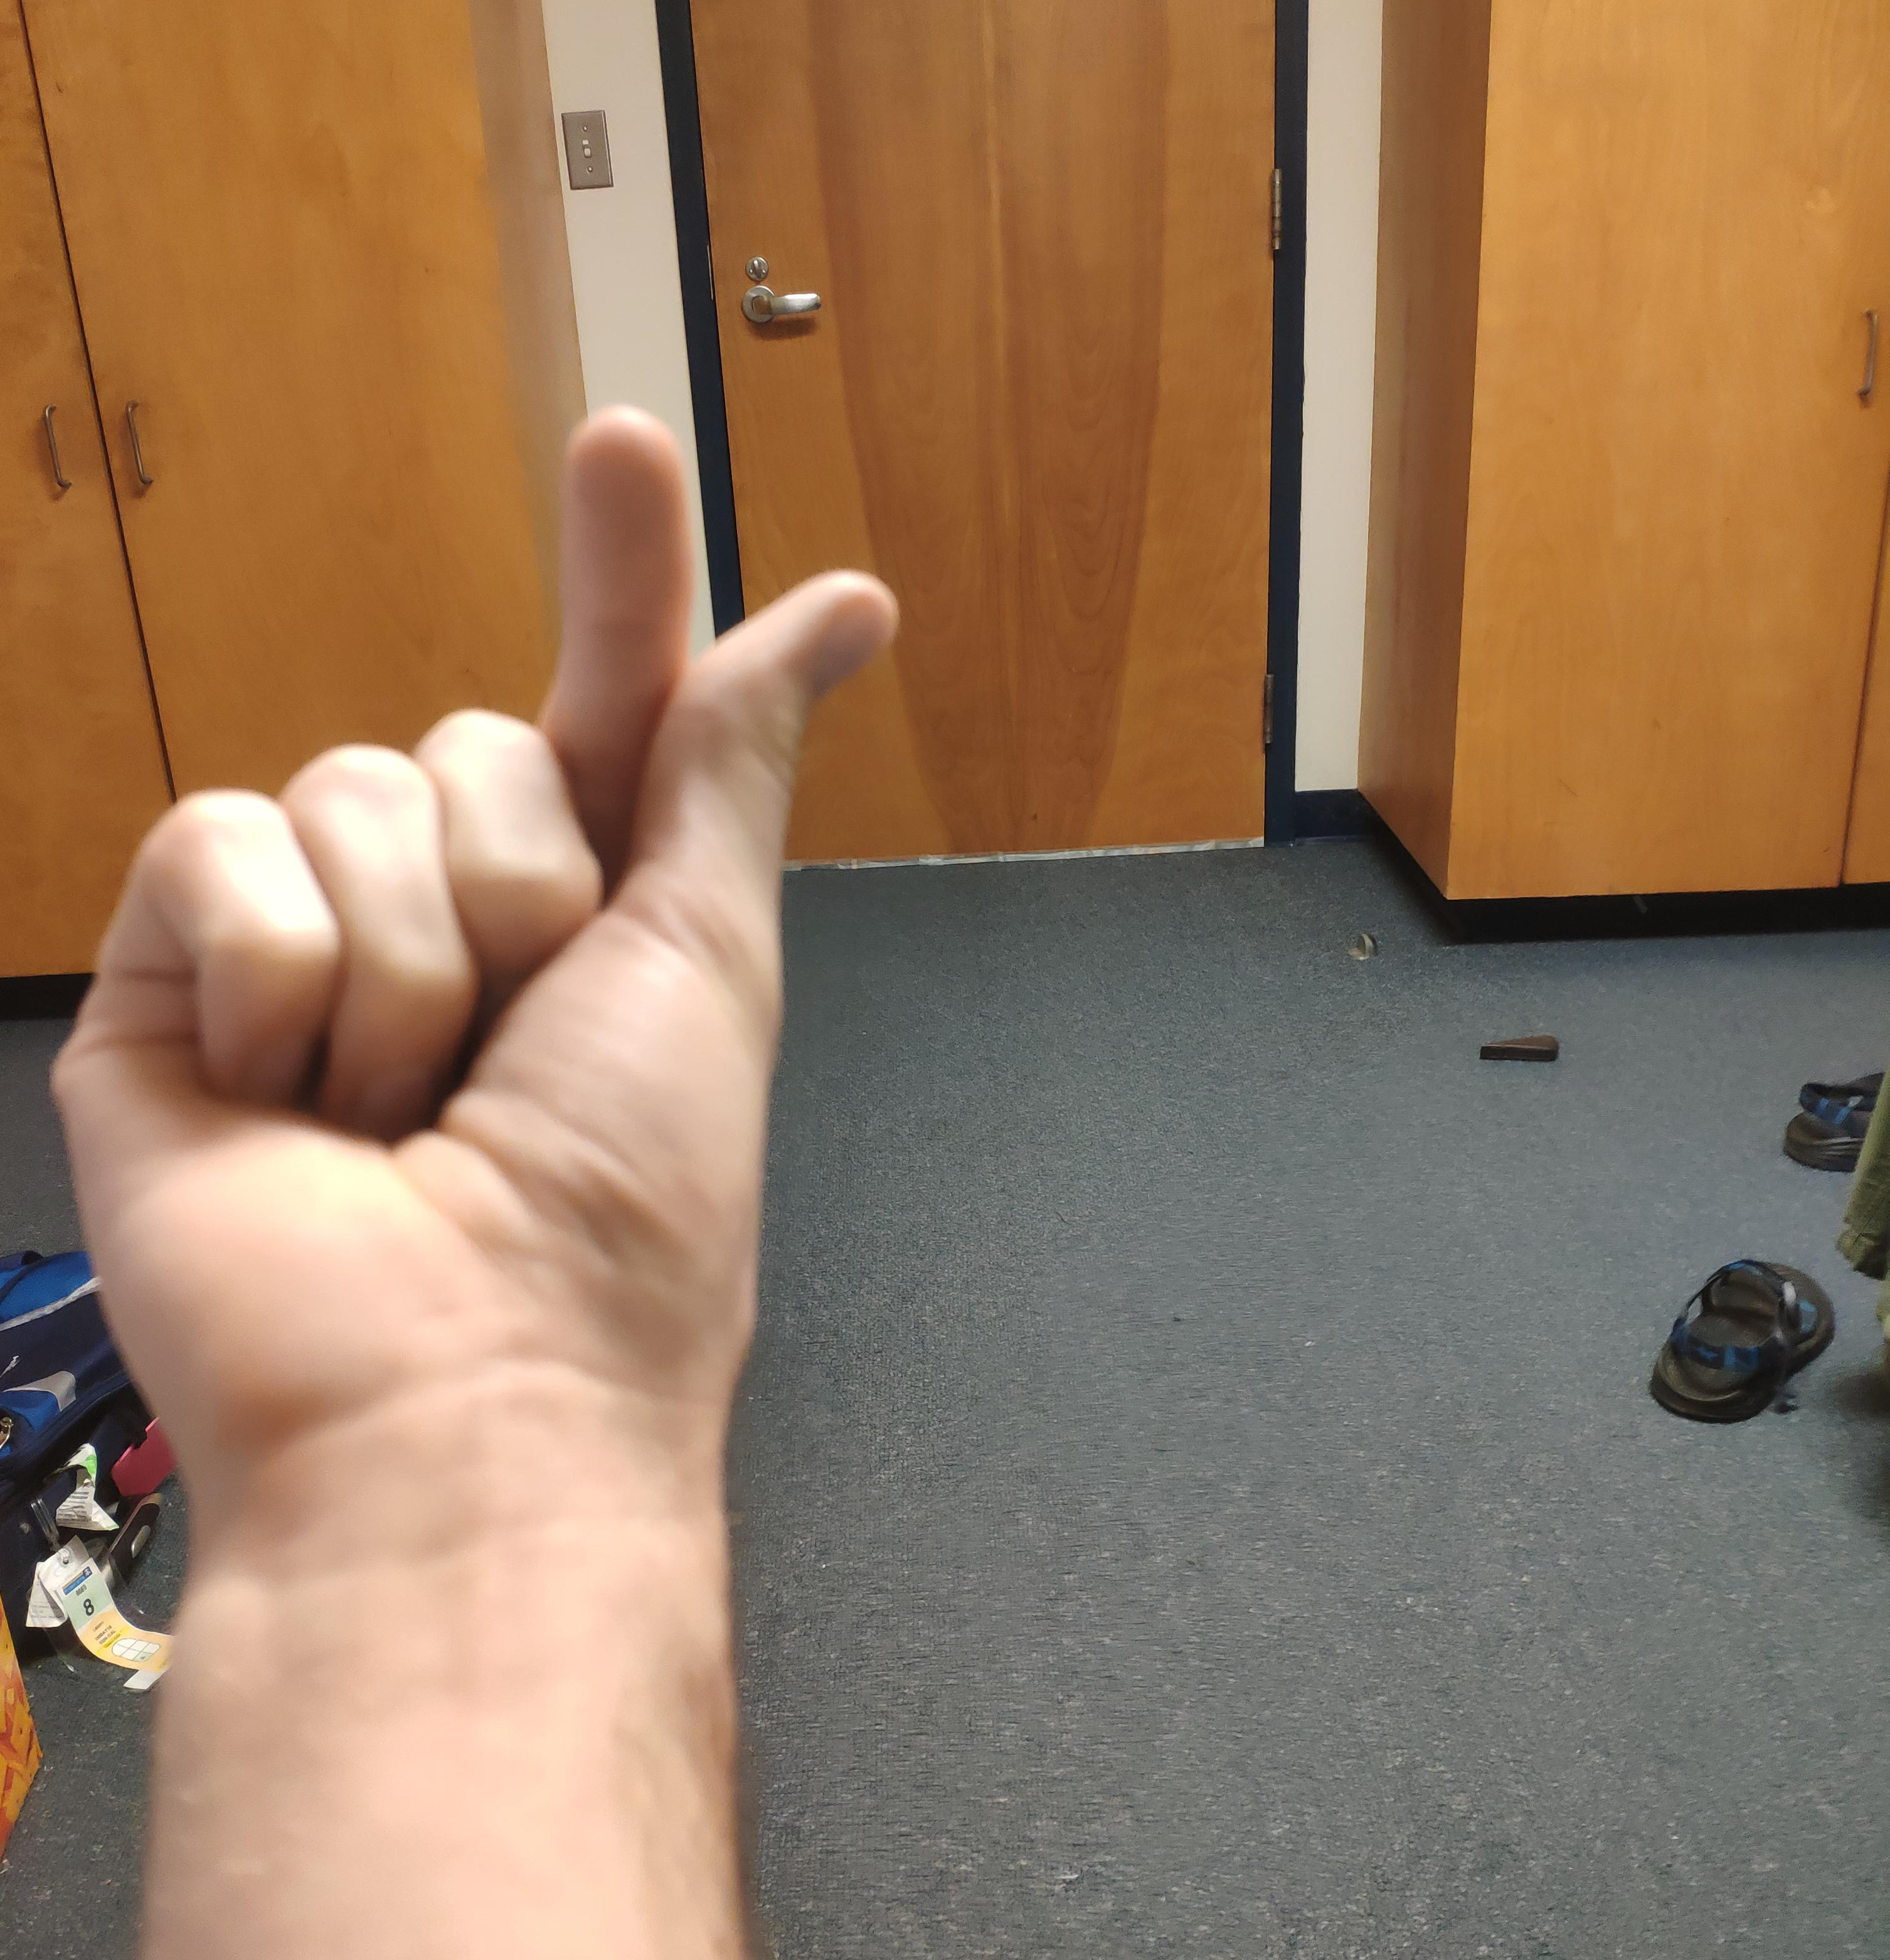heart gesture: (537, 390, 910, 777)
